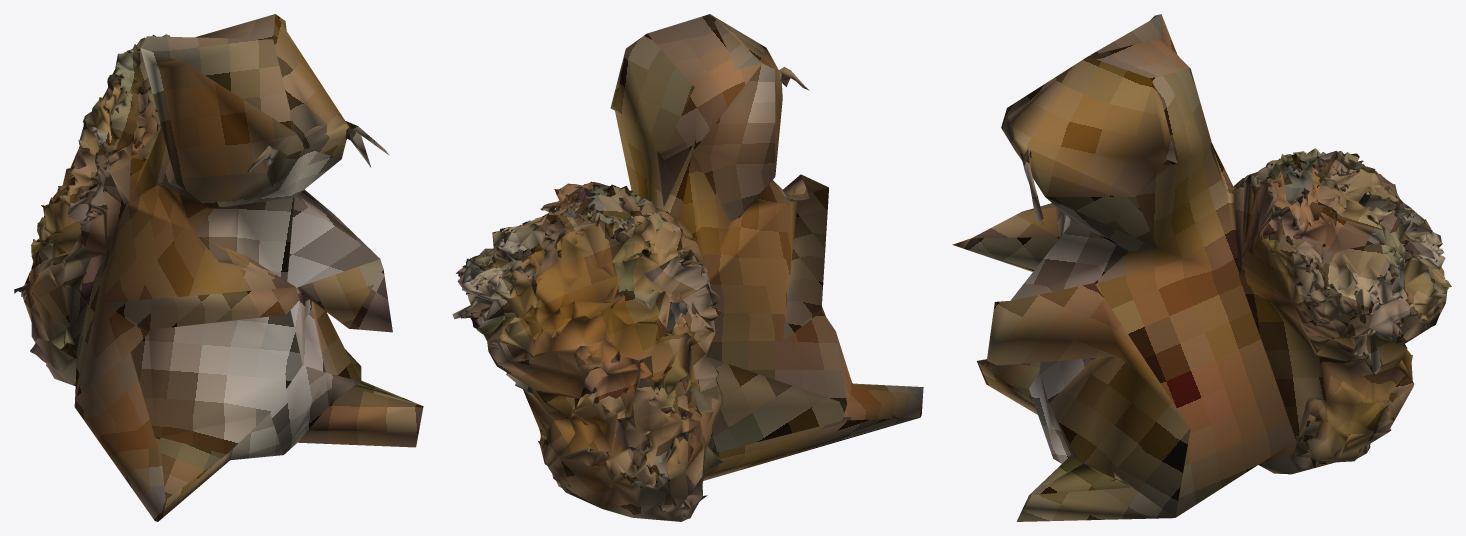
The model's file is Squirrel-low.glb.
3 views of the same model, side by side, from view 1: azimuth 30°, elevation 25°; view 2: azimuth 150°, elevation 25°; view 3: azimuth 270°, elevation 25° (orthographic). The views are drawn at different scales.
Visible parts, largest first — view 1: Squirrel; view 2: Squirrel; view 3: Squirrel.
Boxes of the visible parts, x1,y1,x2,y2 form: Squirrel: (14, 14, 423, 521); Squirrel: (452, 14, 923, 521); Squirrel: (952, 14, 1451, 521).
Bounding box in the file's own units: 0.0951 × 0.1292 × 0.1411.
Materials: 1 (1 with a texture image).
